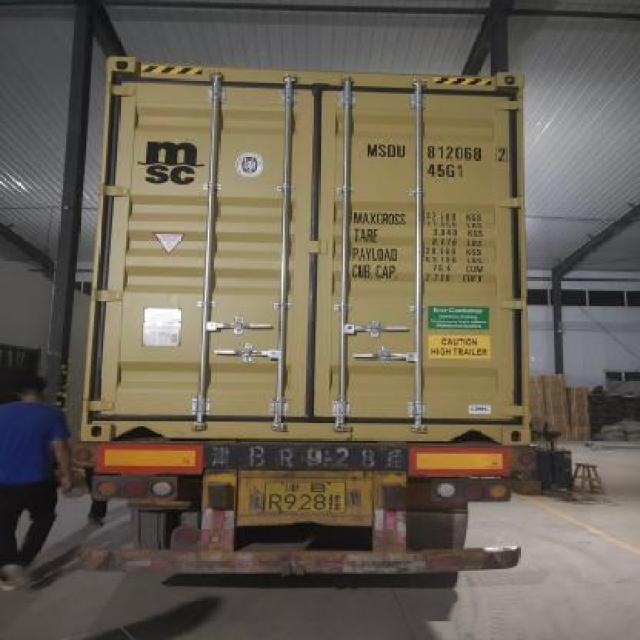ISO: (422, 164, 470, 182)
container_number: (370, 142, 498, 162)
